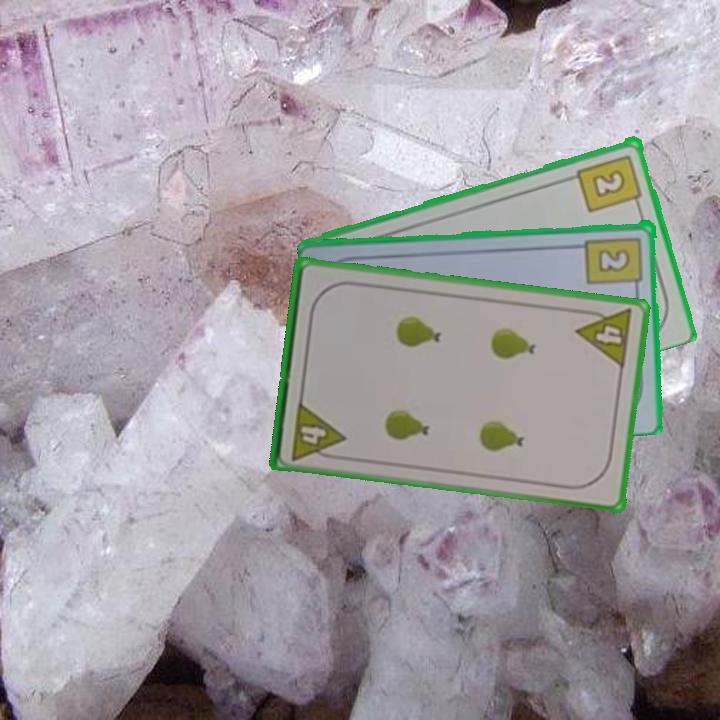2b: (574, 150, 645, 215), (583, 233, 646, 294)
4p: (573, 305, 636, 371), (287, 398, 348, 463)
